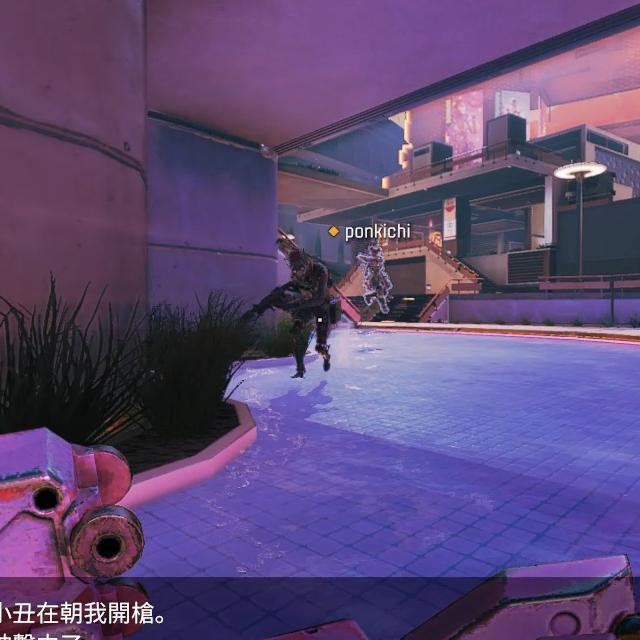avatar: (282, 247, 335, 380), (359, 246, 393, 314)
